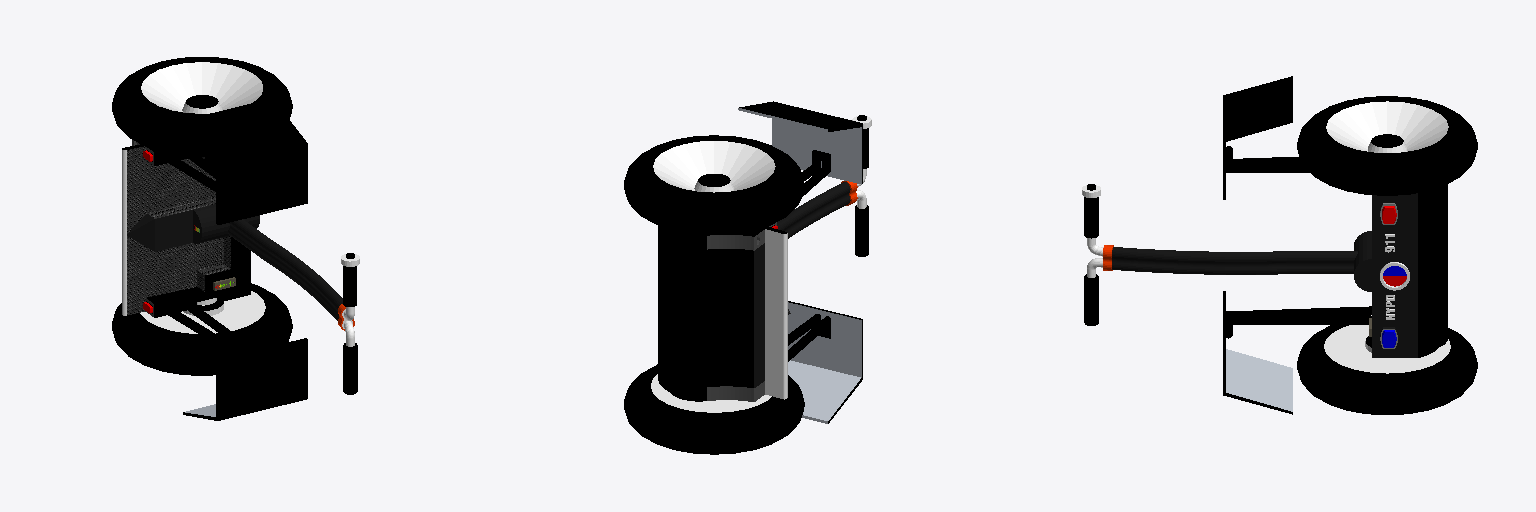
The picture shows the model from 3 angles: view 1: azimuth 30°, elevation 25°; view 2: azimuth 150°, elevation 25°; view 3: azimuth 270°, elevation 25°; orthographic projection.
Visible parts, largest first — view 1: Mesh8 Component1 Model, Mesh10 Component1 Model, Mesh12 Component1 Model, Mesh11 Component1 Model, Mesh9 Component1 Model; view 2: Mesh8 Component1 Model, Mesh12 Component1 Model, Mesh10 Component1 Model, Mesh11 Component1 Model; view 3: Mesh8 Component1 Model, Mesh10 Component1 Model, Mesh12 Component1 Model, Mesh11 Component1 Model, Mesh9 Component1 Model.
Part boxes in pixels (left/top/right/bottom): Mesh8 Component1 Model: left=112, top=57, right=357, bottom=394; Mesh10 Component1 Model: left=183, top=98, right=307, bottom=224; Mesh12 Component1 Model: left=183, top=338, right=307, bottom=420; Mesh11 Component1 Model: left=163, top=300, right=255, bottom=354; Mesh9 Component1 Model: left=341, top=253, right=359, bottom=320; Mesh8 Component1 Model: left=624, top=135, right=868, bottom=454; Mesh12 Component1 Model: left=788, top=301, right=862, bottom=423; Mesh10 Component1 Model: left=738, top=101, right=862, bottom=184; Mesh11 Component1 Model: left=788, top=314, right=830, bottom=361; Mesh8 Component1 Model: left=1084, top=96, right=1477, bottom=414; Mesh10 Component1 Model: left=1223, top=76, right=1292, bottom=199; Mesh12 Component1 Model: left=1223, top=291, right=1292, bottom=414; Mesh11 Component1 Model: left=1226, top=306, right=1371, bottom=338; Mesh9 Component1 Model: left=1082, top=184, right=1103, bottom=256.
Size of the model in its own units: 0.5955 by 1.07 by 1.3.
21 materials, 1 textured.